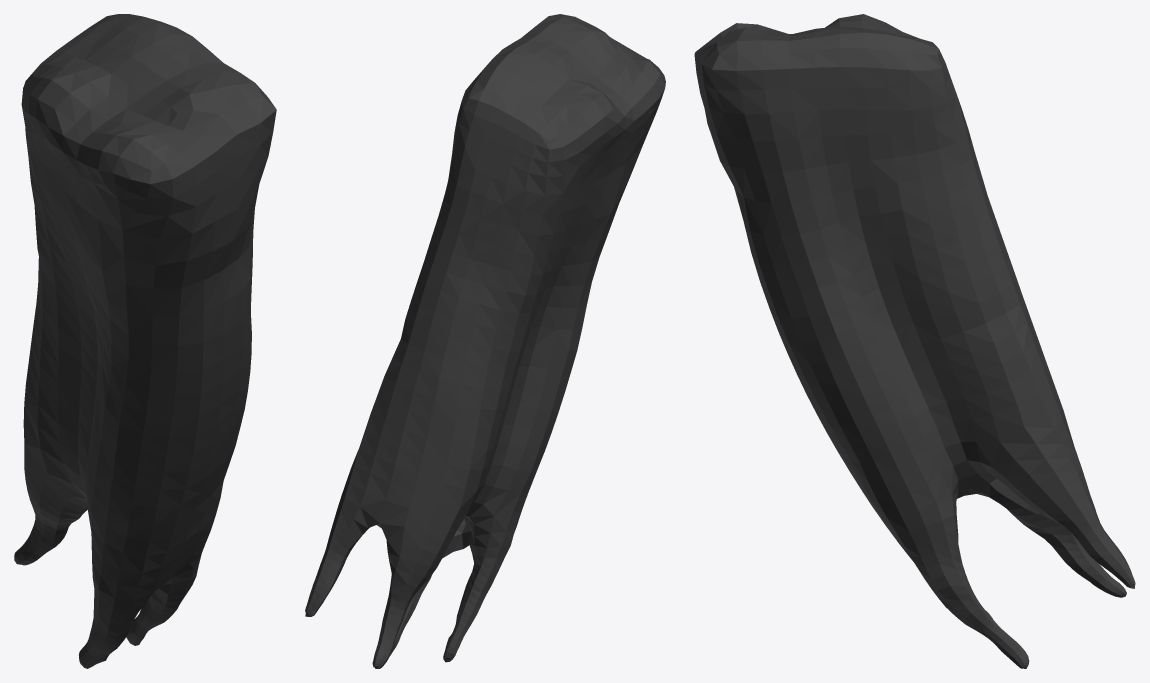
The model's file is L_mand_M1_copy000.glb.
The picture shows the model from 3 angles, left to right: view 1: azimuth 30°, elevation 25°; view 2: azimuth 150°, elevation 25°; view 3: azimuth 270°, elevation 25°; orthographic projection. The views are drawn at different scales.
Visible parts, largest first — view 1: L_mand_M1_copy000; view 2: L_mand_M1_copy000; view 3: L_mand_M1_copy000.
Boxes of the visible parts, bbox=[...] form: L_mand_M1_copy000: bbox=[14, 14, 276, 668]; L_mand_M1_copy000: bbox=[305, 14, 665, 668]; L_mand_M1_copy000: bbox=[694, 14, 1135, 668].
Size of the model in its own units: 0.1074 by 0.3298 by 0.2171.
Materials: 1 (1 with a texture image).
